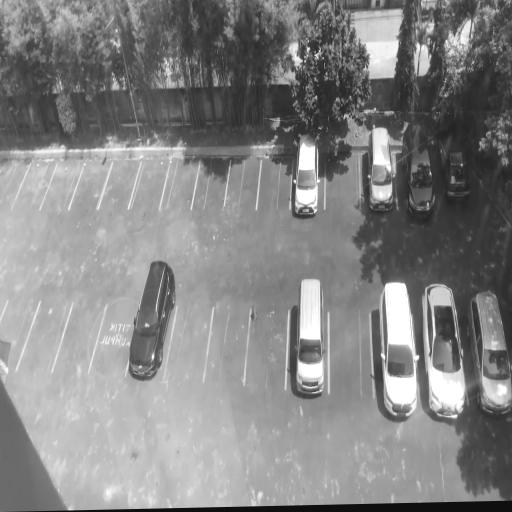Car: (418, 277, 470, 423), (125, 257, 180, 381), (463, 286, 512, 419), (375, 280, 421, 417), (291, 272, 326, 402), (398, 122, 437, 221), (431, 119, 474, 206), (365, 125, 395, 215), (290, 128, 320, 217)
Space Available: (52, 302, 106, 374), (17, 301, 71, 372), (243, 307, 289, 388), (329, 313, 373, 395), (165, 306, 213, 379), (88, 303, 138, 373), (204, 307, 250, 383), (0, 298, 39, 369), (11, 157, 57, 207), (191, 155, 231, 211), (159, 157, 201, 210), (223, 156, 262, 212), (39, 161, 84, 209), (68, 159, 112, 208), (129, 159, 170, 211), (325, 150, 359, 211), (99, 160, 140, 207), (257, 156, 293, 207), (0, 161, 30, 208)
